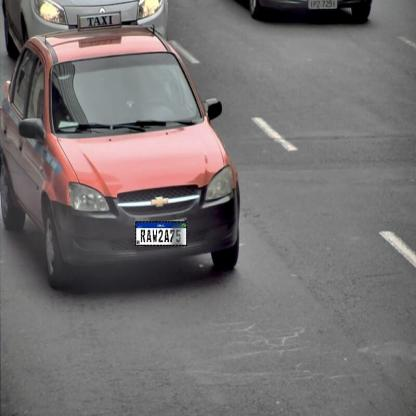PlacaM: (135, 221, 187, 246)
